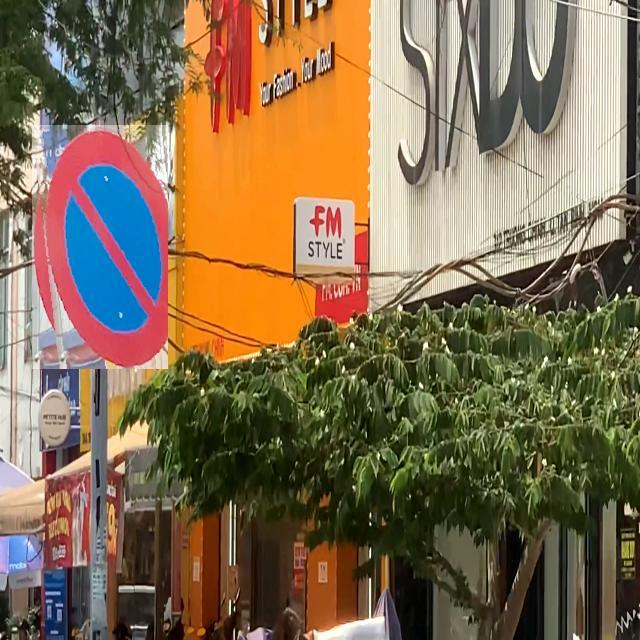P-131a: (32, 125, 168, 369)
